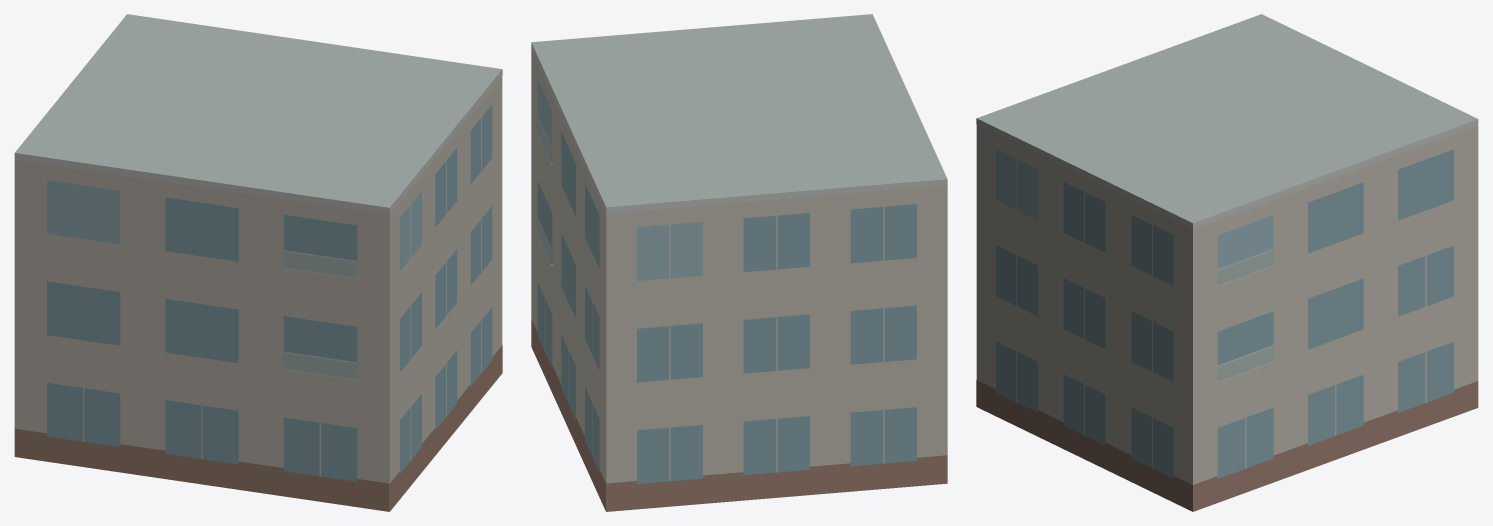
The model's file is survey-upis-32862238.glb.
3 renders of one model, left to right at view 1: azimuth 30°, elevation 25°; view 2: azimuth 150°, elevation 25°; view 3: azimuth 270°, elevation 25°, orthographic. The views are drawn at different scales.
Parts seen in each view (by area): view 1: survey-upis-32862238.tmp; view 2: survey-upis-32862238.tmp; view 3: survey-upis-32862238.tmp.
Boxes of the visible parts, left/top/right/bottom form: survey-upis-32862238.tmp: left=14, top=14, right=502, bottom=511; survey-upis-32862238.tmp: left=531, top=14, right=947, bottom=511; survey-upis-32862238.tmp: left=976, top=14, right=1478, bottom=511.
Size of the model in its own units: 17.5 by 11.25 by 17.73.
